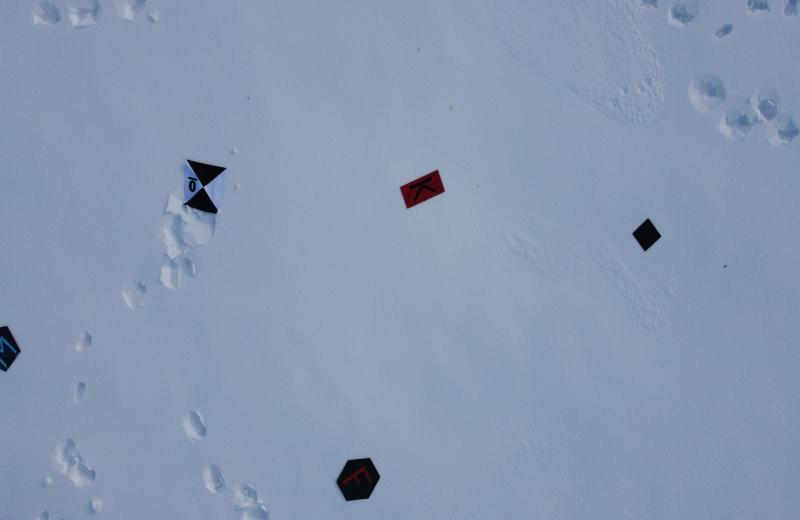Hexagon: (338, 456, 380, 502)
Pentagon: (0, 323, 21, 372)
Rectangle: (401, 167, 446, 211)
Square: (632, 218, 661, 253)
